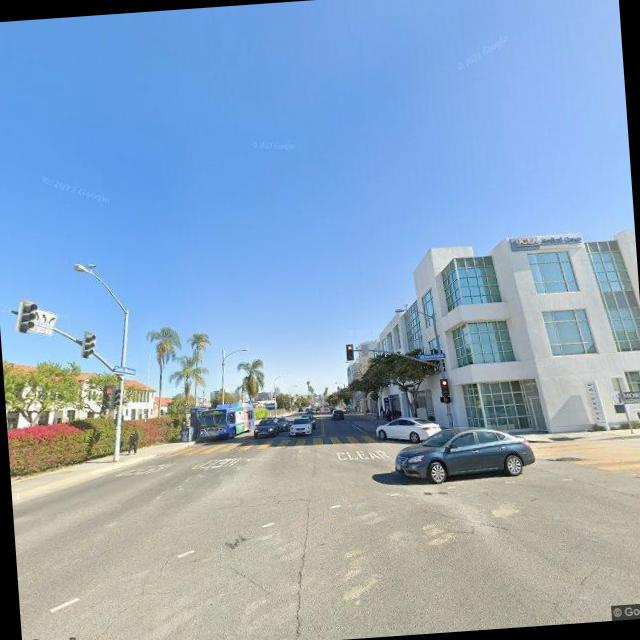pothole: (86, 550, 182, 638), (279, 498, 320, 640), (225, 561, 273, 598)
